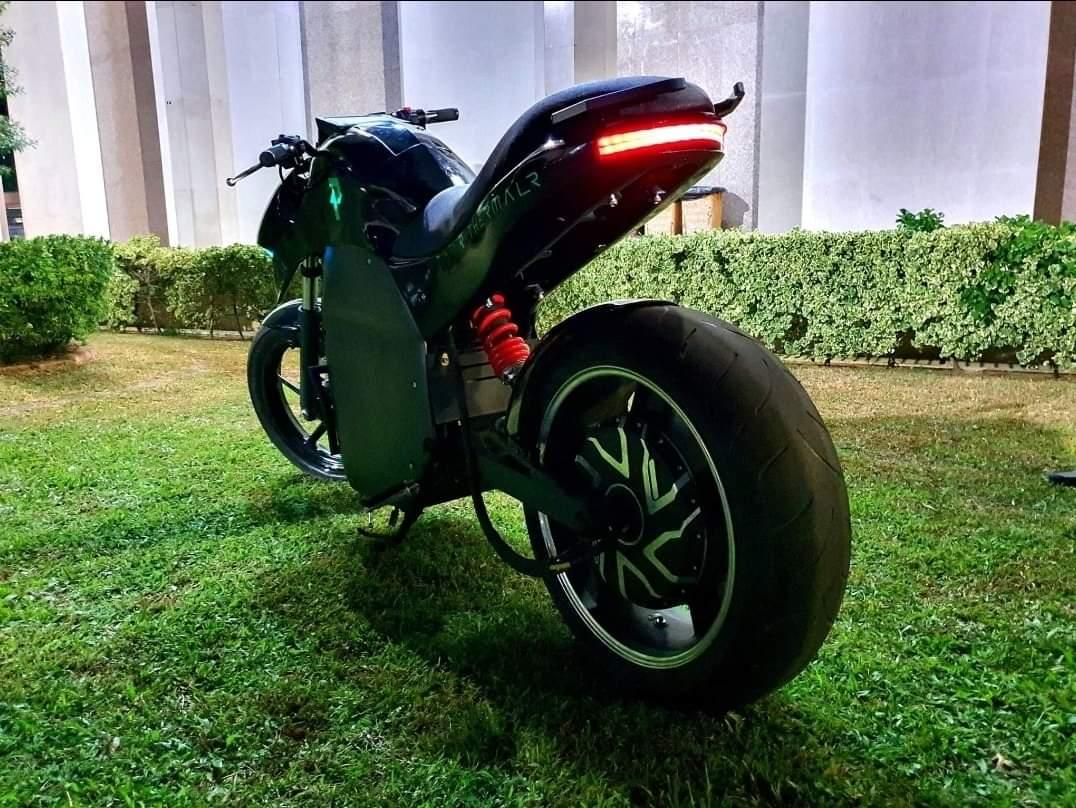motorbike: (226, 75, 853, 709)
